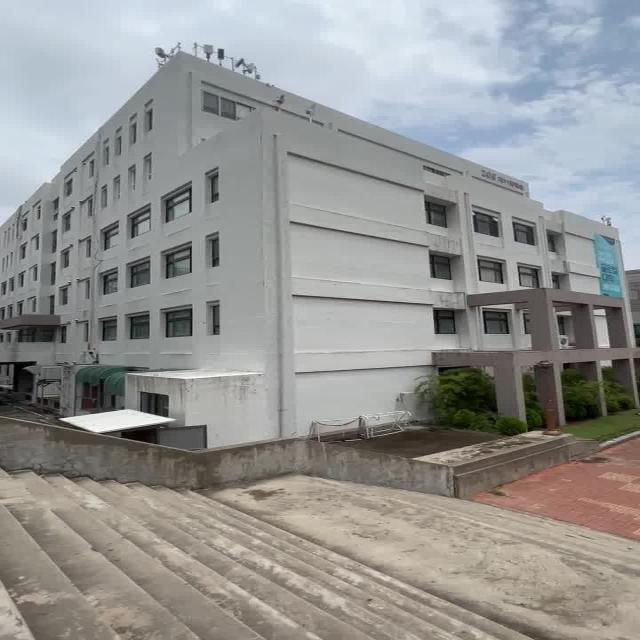building: (30, 50, 633, 406)
